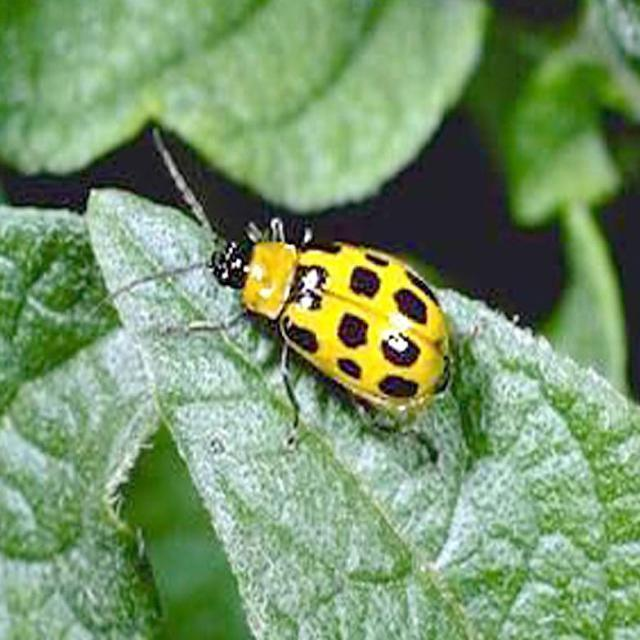gusano_verde: (94, 124, 532, 460)
